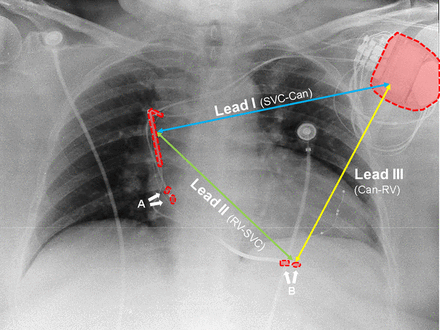telestration: (156, 131, 291, 259), (296, 86, 391, 260), (158, 80, 388, 131), (368, 31, 440, 115), (190, 176, 263, 250), (214, 86, 313, 116), (353, 166, 404, 196), (146, 106, 165, 169), (134, 191, 164, 209), (283, 270, 298, 295)
